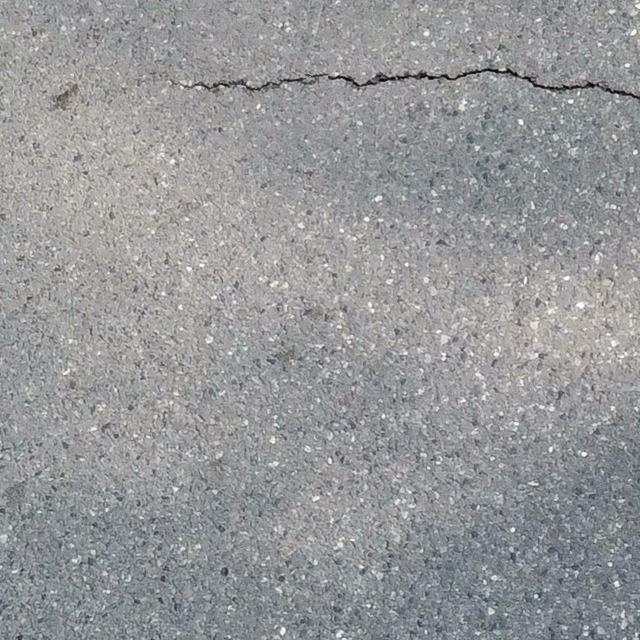TransverseCrack: (167, 68, 640, 99)
